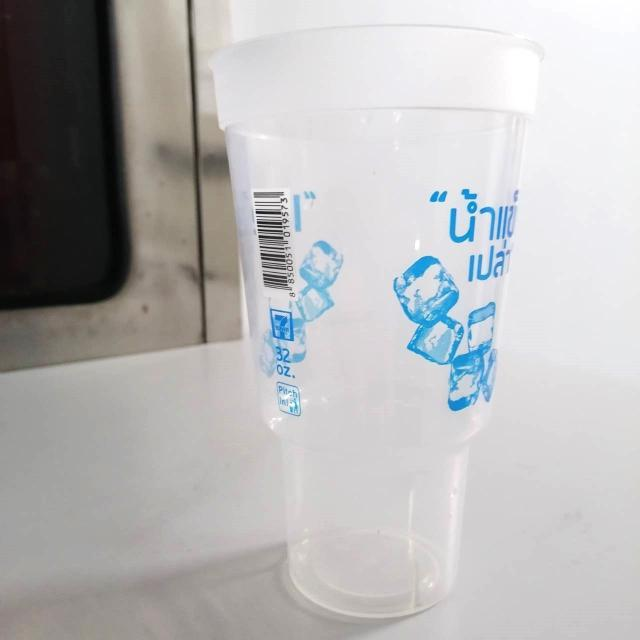Plastico descartable: (212, 24, 546, 627)
